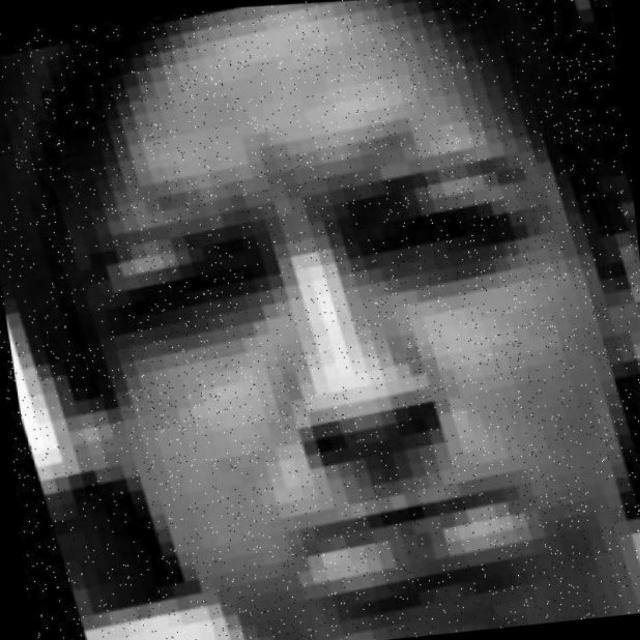Angry: (15, 34, 640, 639)
